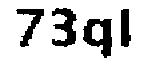3: (48, 6, 80, 50)
7: (11, 5, 45, 50)
I: (116, 4, 136, 51)
q: (80, 16, 116, 60)
